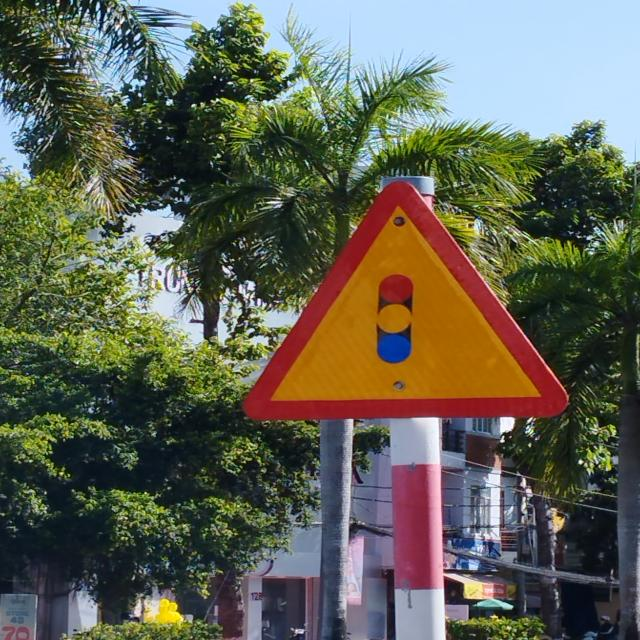Duong_Co_Go_Giam_Toc: (243, 179, 570, 421)
